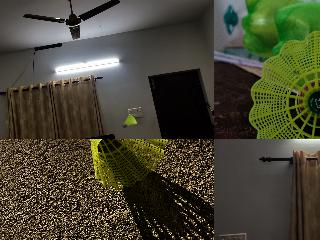shuttlecock: (249, 30, 319, 138), (79, 139, 167, 190), (122, 114, 136, 126)
